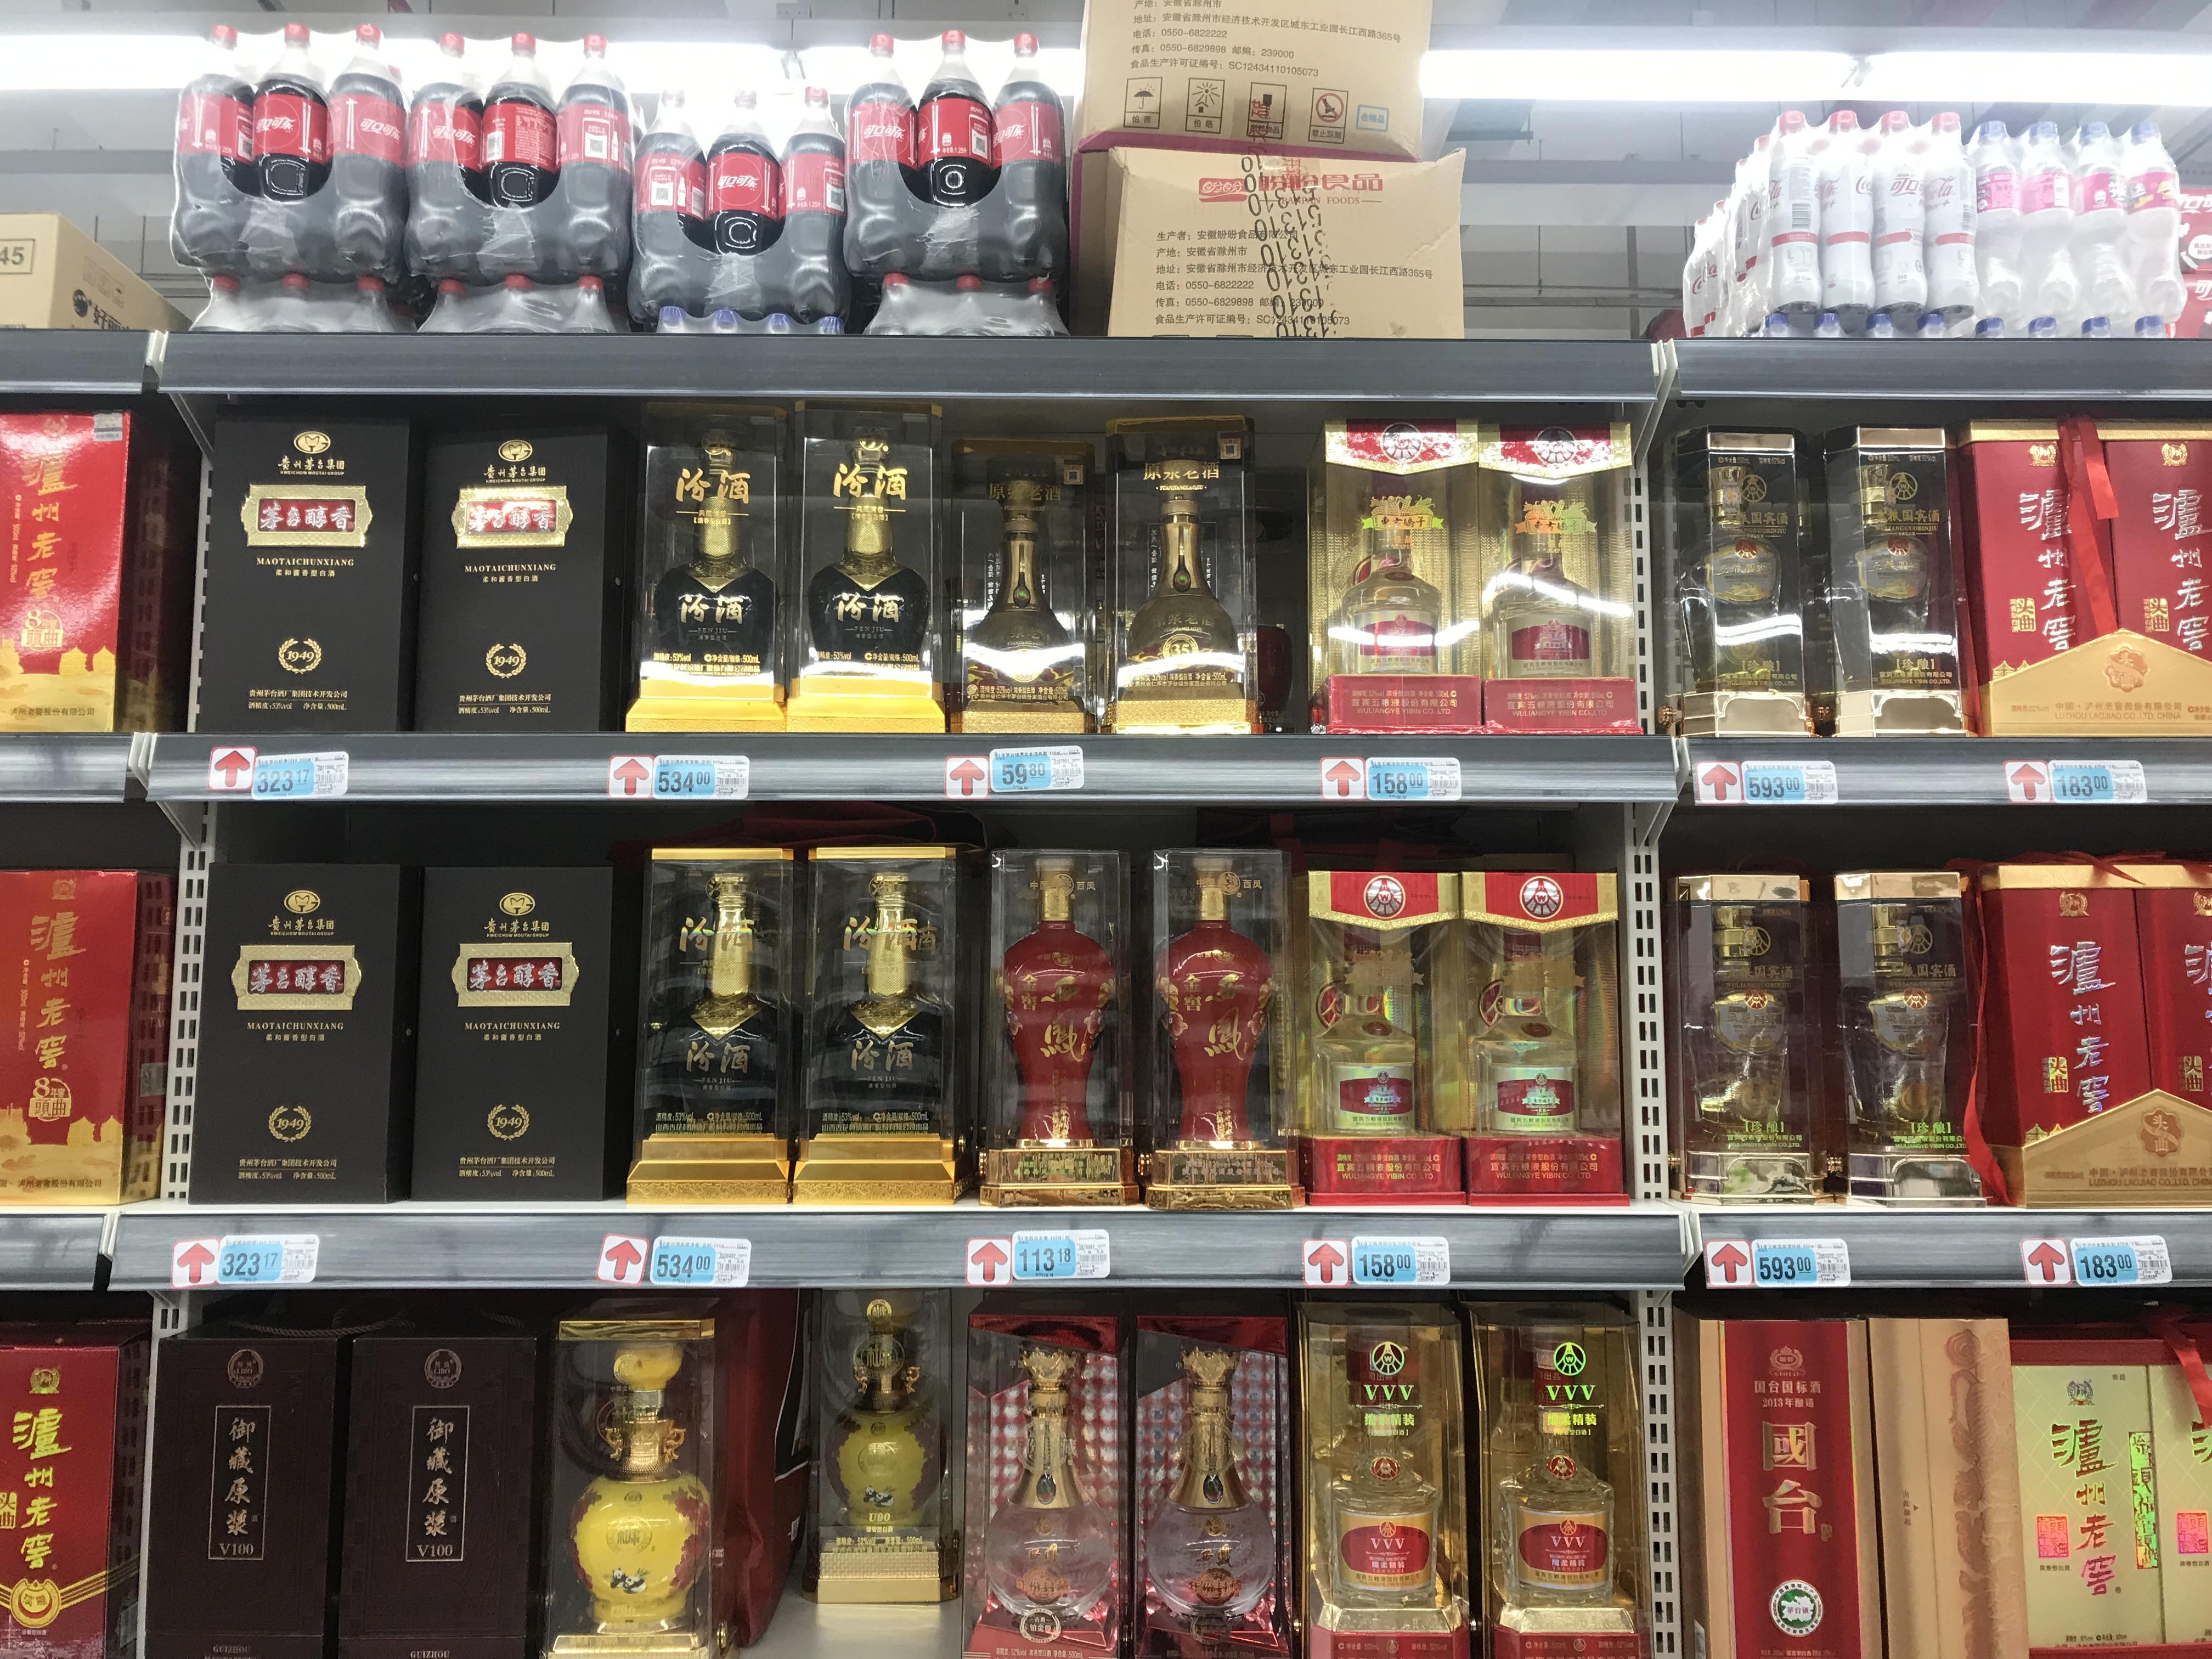box: (1975, 854, 2210, 1209), (1979, 416, 2207, 748), (1987, 1331, 2212, 1659), (1679, 1297, 1879, 1659), (333, 1307, 540, 1656), (1409, 868, 1629, 1195), (204, 859, 411, 1206), (202, 397, 408, 742), (535, 1305, 733, 1659), (131, 1317, 334, 1657), (1467, 1297, 1655, 1659), (618, 842, 792, 1213), (409, 875, 604, 1204), (1305, 1291, 1475, 1659), (0, 857, 174, 1211), (794, 849, 963, 1209), (625, 396, 801, 732), (1143, 847, 1299, 1213), (1308, 420, 1484, 734), (1143, 1328, 1308, 1659), (1101, 411, 1270, 735), (984, 852, 1137, 1209), (423, 429, 597, 742), (1292, 866, 1453, 1202), (0, 399, 152, 744), (1480, 415, 1641, 727), (977, 1319, 1123, 1659), (1681, 425, 1827, 746), (1825, 425, 1972, 746), (798, 404, 939, 735), (1822, 873, 1968, 1192), (1672, 875, 1817, 1195), (951, 420, 1096, 730), (0, 1310, 127, 1659), (817, 1295, 953, 1608)
others: (174, 16, 415, 289), (838, 19, 1071, 270), (1716, 110, 1980, 321), (415, 24, 624, 282), (631, 68, 850, 303), (1963, 117, 2195, 317), (179, 272, 413, 369), (873, 272, 1062, 378), (420, 274, 629, 362), (1979, 310, 2170, 394), (650, 295, 845, 373), (1745, 312, 1956, 380)
